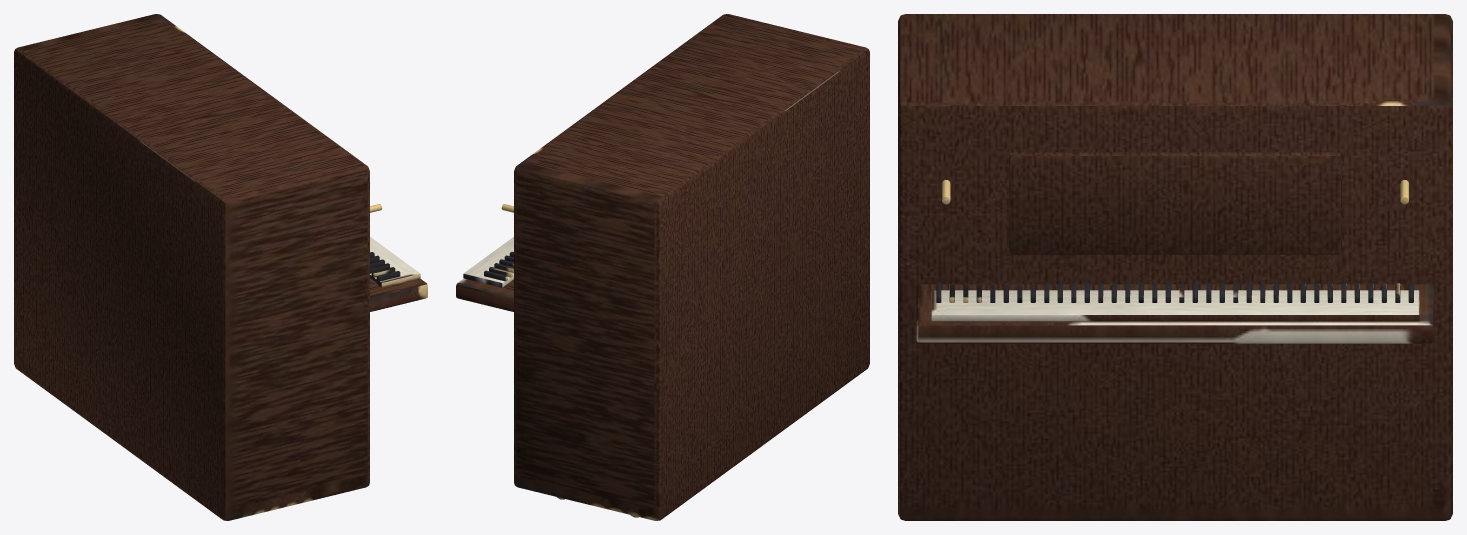
The model's file is piano.glb.
3 renders of one model, left to right at view 1: azimuth 30°, elevation 25°; view 2: azimuth 150°, elevation 25°; view 3: azimuth 270°, elevation 25°, orthographic. The views are drawn at different scales.
Parts seen in each view (by area): view 1: case, keybed, keys; view 2: case, keybed, keys; view 3: case, music_desk, keybed, keys.
Boxes of the visible parts, x1=… form: case: x1=14, y1=14, x2=369, y2=520; keybed: x1=370, y1=278, x2=427, y2=311; keys: x1=370, y1=237, x2=420, y2=287; case: x1=514, y1=14, x2=869, y2=520; keybed: x1=456, y1=278, x2=513, y2=311; keys: x1=463, y1=237, x2=513, y2=287; case: x1=898, y1=14, x2=1452, y2=520; music_desk: x1=1009, y1=152, x2=1341, y2=254; keybed: x1=916, y1=284, x2=1434, y2=343; keys: x1=931, y1=290, x2=1419, y2=321.
Bounding box in the file's own units: 0.86 × 1.3 × 1.5.
Materials: 1 (1 with a texture image).
